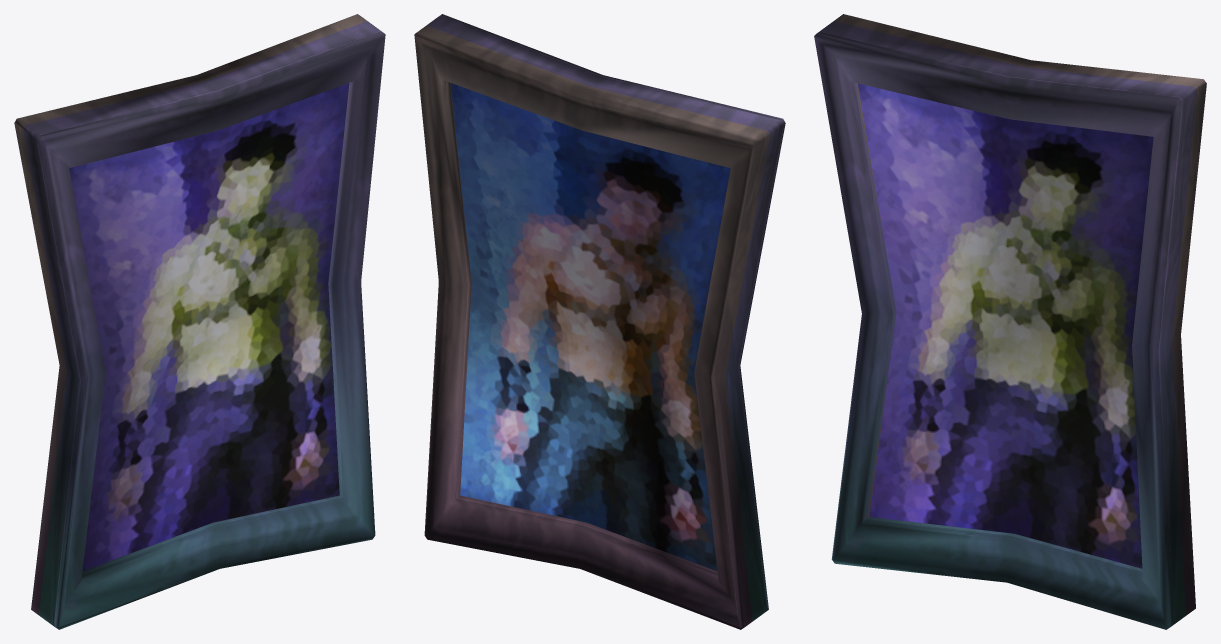
Rendered from Mesh_Square_Medium_Portrait_Painting.fbx.
3 renders of one model, left to right at view 1: azimuth 30°, elevation 25°; view 2: azimuth 150°, elevation 25°; view 3: azimuth 330°, elevation 25°, orthographic. The views are drawn at different scales.
Visible parts, largest first — view 1: pCube33; view 2: pCube33; view 3: pCube33.
Part boxes in pixels (left/top/right/bottom): pCube33: left=14, top=14, right=385, bottom=629; pCube33: left=414, top=14, right=785, bottom=629; pCube33: left=814, top=14, right=1206, bottom=629.
Bounding box in the file's own units: 1.15 × 1.64 × 0.1555.
